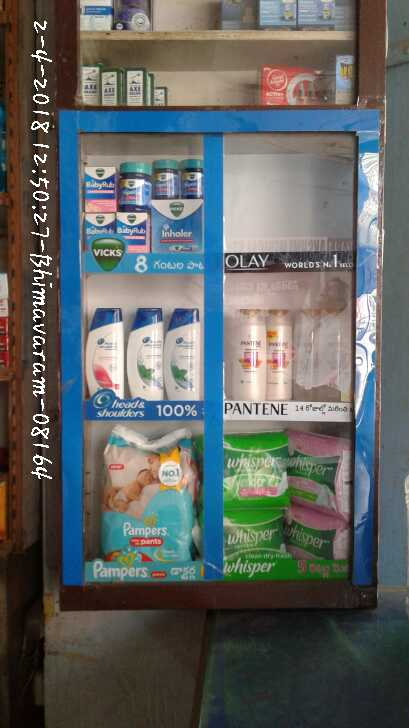vicks: (155, 203, 195, 251), (117, 158, 153, 208), (86, 168, 117, 208), (153, 158, 178, 199), (86, 216, 114, 251), (116, 213, 141, 251), (178, 158, 200, 199)
